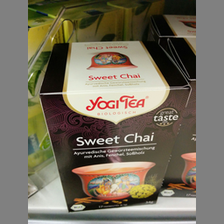tea: (37, 40, 193, 213)
